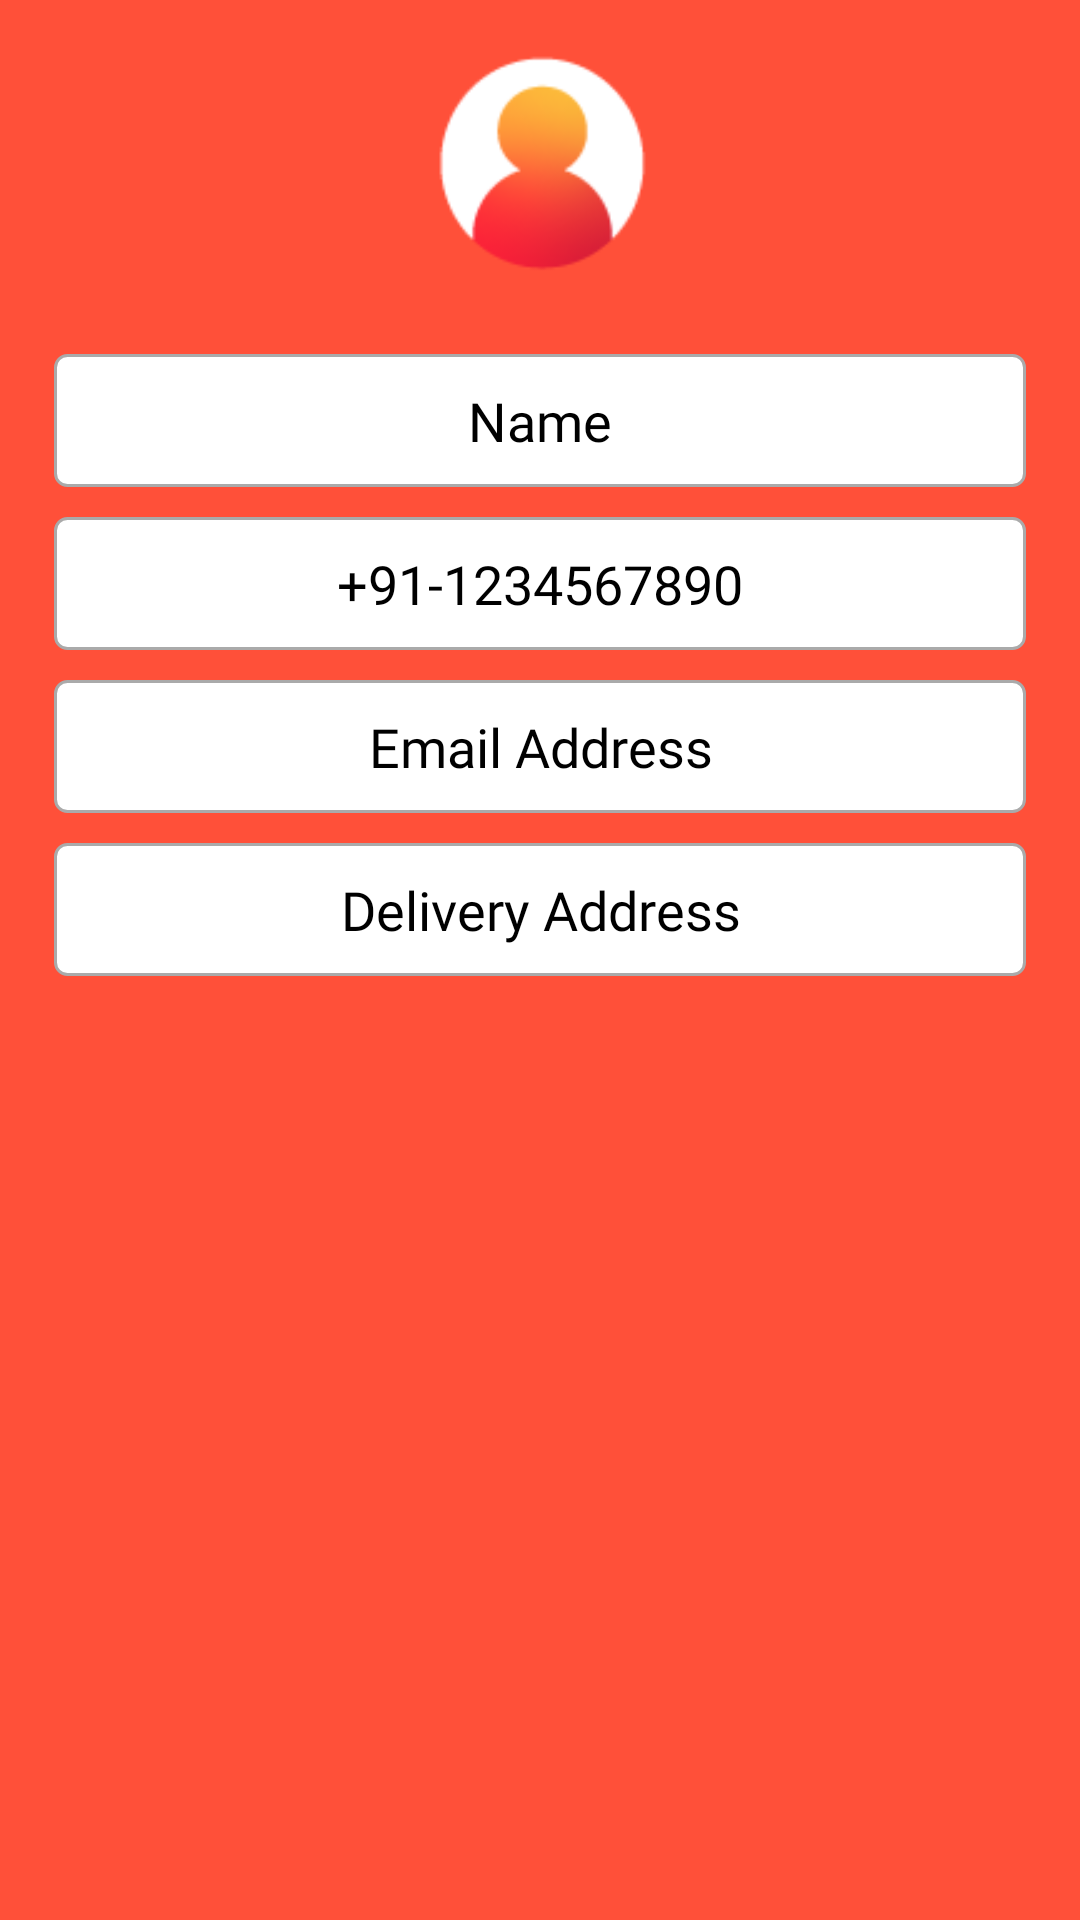

Icon click points for this 1080 x 1920 phone screenshot, format [x,y]:
profile: [542,162]
